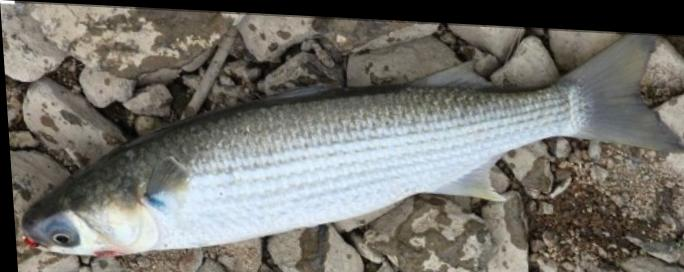fish: (16, 26, 684, 256)
